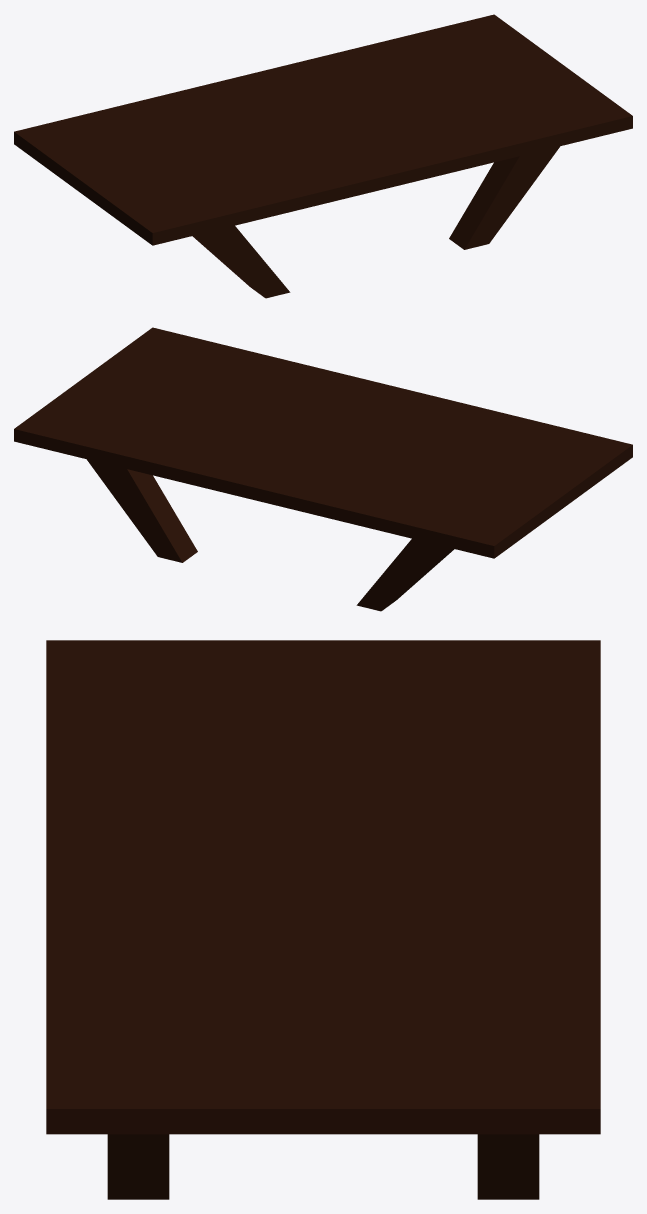
File: GrandeTable.fbx
The picture shows the model from 3 angles, top to bottom: view 1: azimuth 30°, elevation 25°; view 2: azimuth 150°, elevation 25°; view 3: azimuth 270°, elevation 25°; orthographic projection. The views are drawn at different scales.
Parts seen in each view (by area): view 1: Table; view 2: Table; view 3: Table.
Part boxes in pixels (bbox=[...]): Table: bbox=[14, 14, 632, 298]; Table: bbox=[14, 327, 632, 611]; Table: bbox=[46, 640, 600, 1199].
Bounding box in the file's own units: 400 × 85.92 × 200.
